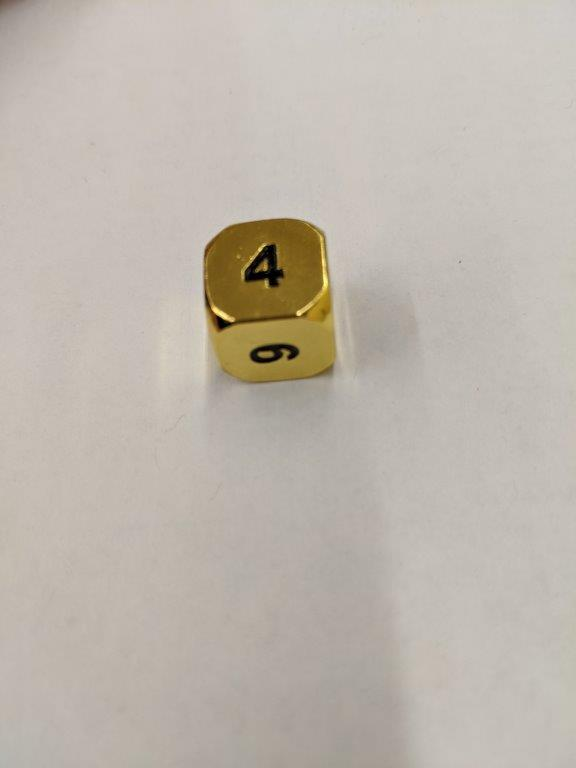d6-4: (201, 218, 340, 382)
